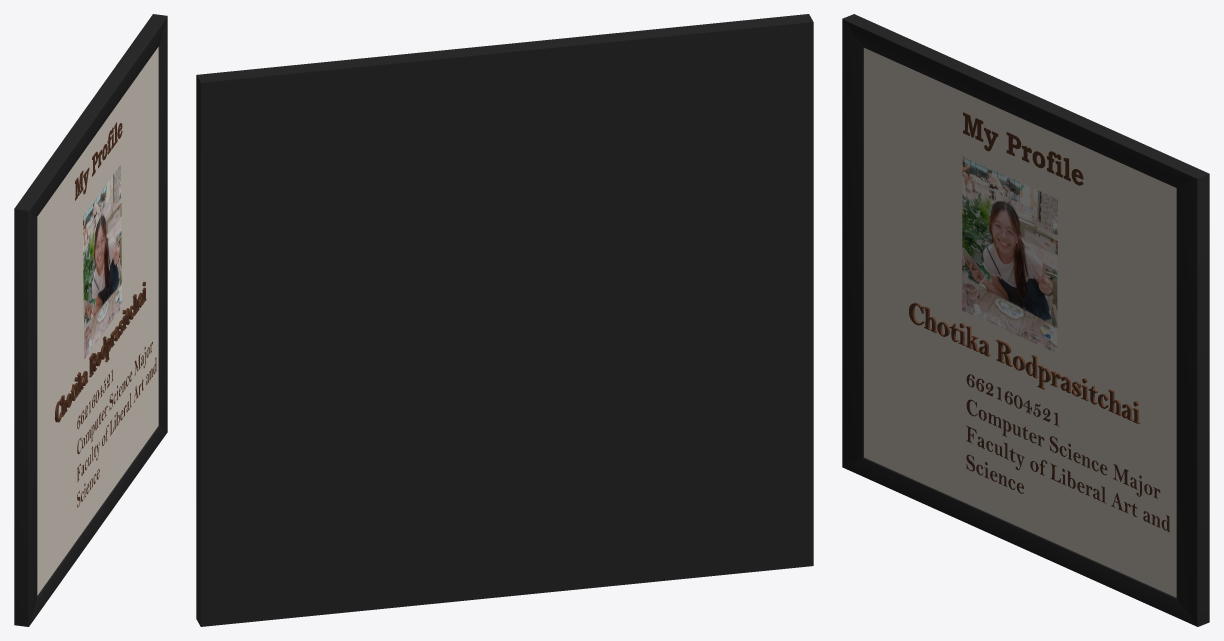
File: myProfile.glb
3 renders of one model, left to right at view 1: azimuth 30°, elevation 25°; view 2: azimuth 150°, elevation 25°; view 3: azimuth 270°, elevation 25°, orthographic. The views are drawn at different scales.
Visible parts, largest first — view 1: Box046_Material #350_0.003, frame.001, Cube.001, Text.007, Text.008, Text.006; view 2: frame.001; view 3: Box046_Material #350_0.003, frame.001, Cube.001, Text.007, Text.008, Text.006.
Boxes of the visible parts, <box> form: Box046_Material #350_0.003: <box>37,47,158,595</box>; frame.001: <box>14,14,167,626</box>; Cube.001: <box>83,164,122,358</box>; Text.007: <box>77,342,156,507</box>; Text.008: <box>55,281,146,422</box>; Text.006: <box>75,122,122,200</box>; frame.001: <box>196,14,813,626</box>; Box046_Material #350_0.003: <box>864,48,1176,597</box>; frame.001: <box>842,14,1209,626</box>; Cube.001: <box>962,156,1057,352</box>; Text.007: <box>966,374,1169,532</box>; Text.008: <box>909,302,1140,423</box>; Text.006: <box>963,112,1083,185</box>.
Size of the model in its own units: 0.8144 by 1.04 by 0.7689.
Materials: 6 (1 with a texture image).
